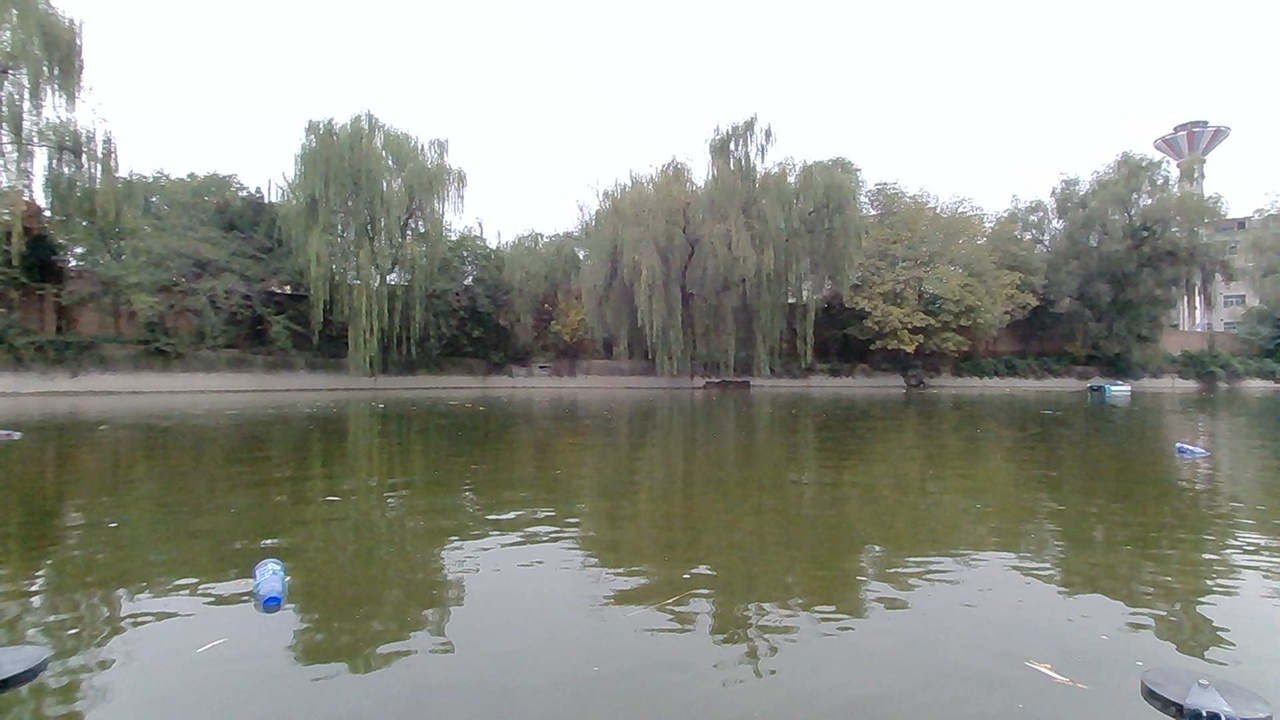bottle: (239, 549, 301, 621), (1172, 437, 1217, 471)
